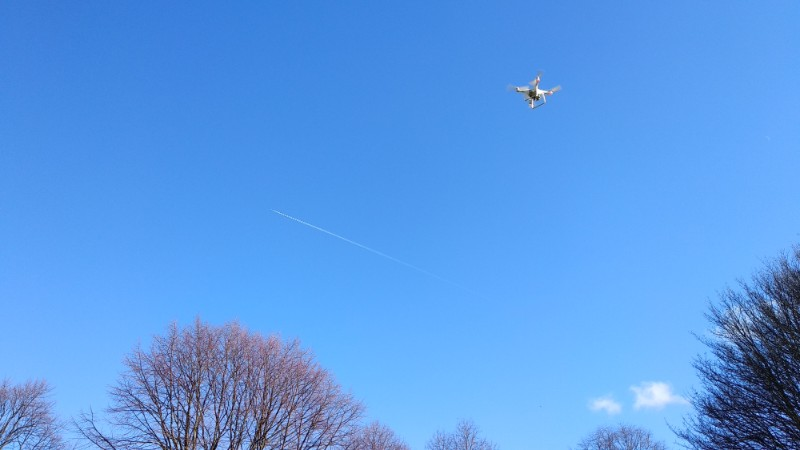drone: (508, 69, 564, 111)
